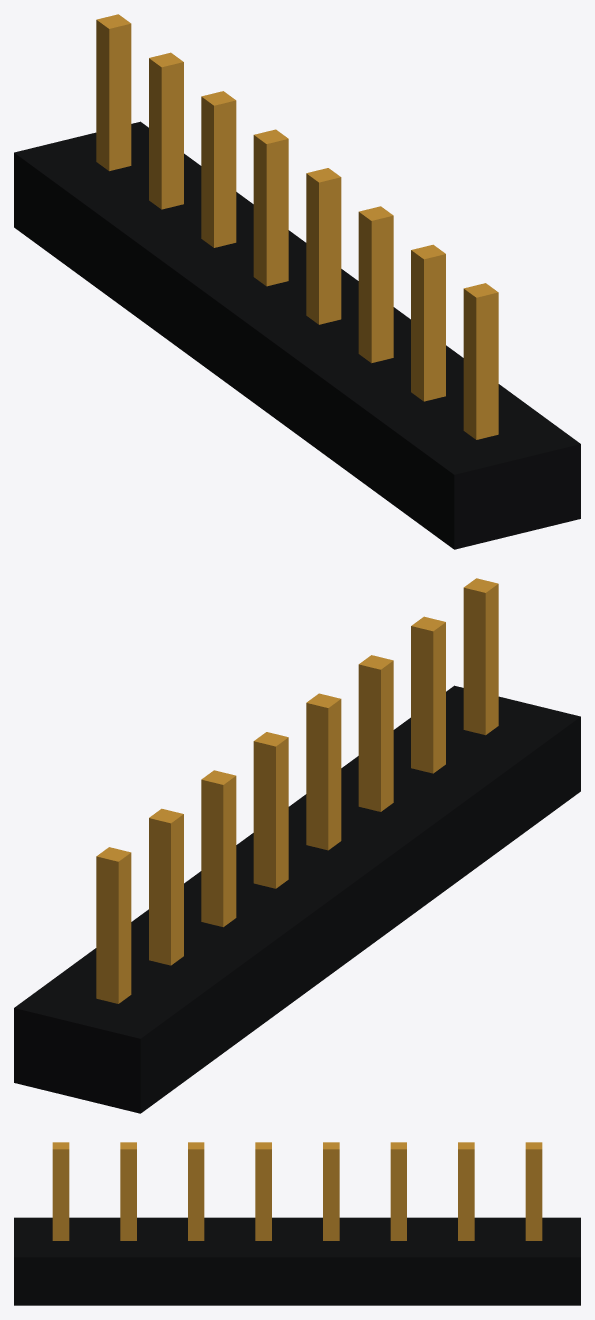
File: L131_EDP.fbx
3 views of the same model, one above another, from view 1: azimuth 30°, elevation 25°; view 2: azimuth 150°, elevation 25°; view 3: azimuth 270°, elevation 25° (orthographic). The views are drawn at different scales.
Parts seen in each view (by area): view 1: EDP_Black, EDP_Gold; view 2: EDP_Black, EDP_Gold; view 3: EDP_Black, EDP_Gold.
Boxes of the visible parts, <box> form: EDP_Black: <box>14,121,580,549</box>; EDP_Gold: <box>96,14,498,439</box>; EDP_Black: <box>14,685,580,1113</box>; EDP_Gold: <box>96,578,498,1003</box>; EDP_Black: <box>14,1217,580,1305</box>; EDP_Gold: <box>52,1142,542,1240</box>.
Bounding box in the file's own units: 0.354 × 0.58 × 2.13.
